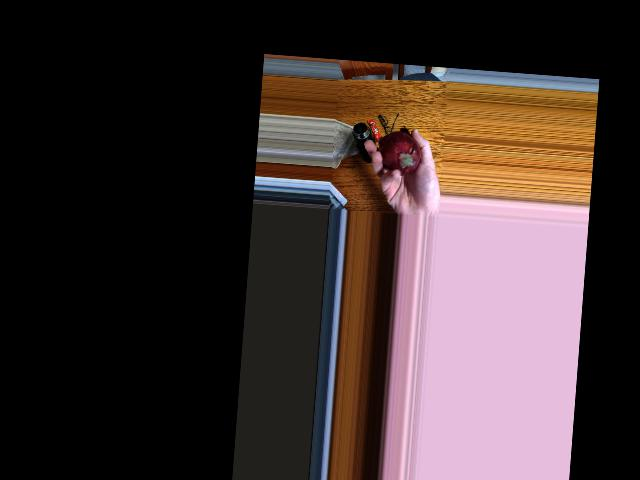onion: (384, 133, 421, 175)
